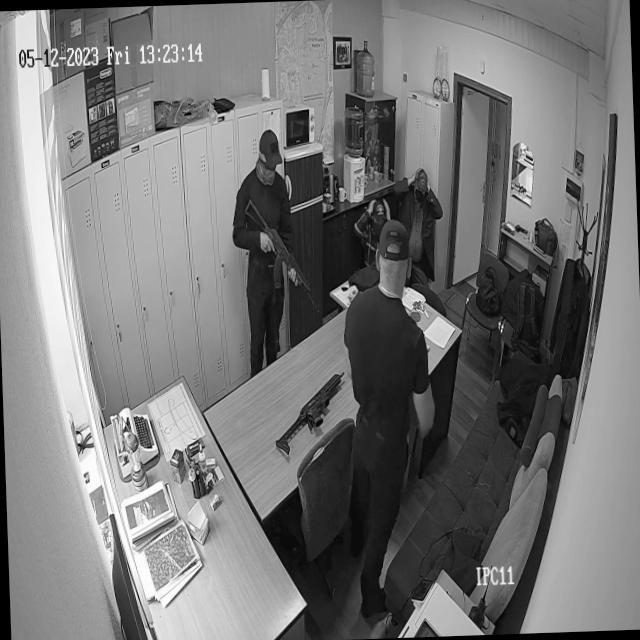gun: (272, 350, 350, 459), (241, 185, 306, 292)
person: (406, 163, 435, 216), (360, 192, 387, 232)
person with a gun: (342, 207, 442, 481), (230, 118, 312, 350)
